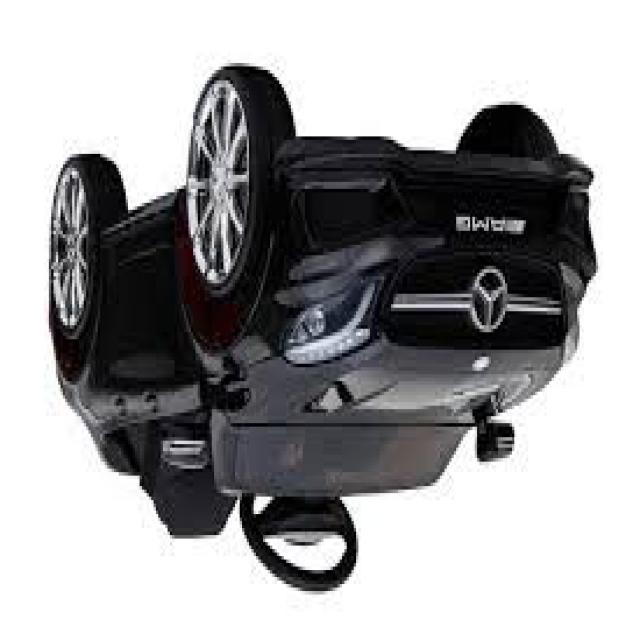Car: (49, 66, 600, 598)
